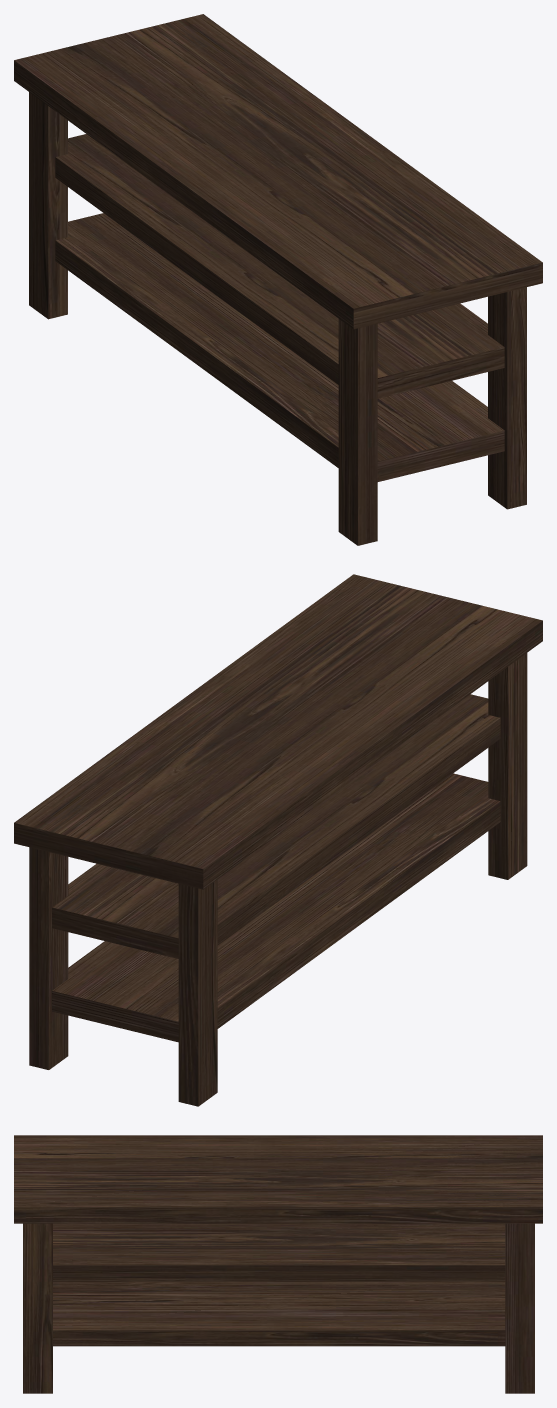
The model's file is F_Table_02.fbx.
The picture shows the model from 3 angles, top to bottom: view 1: azimuth 30°, elevation 25°; view 2: azimuth 150°, elevation 25°; view 3: azimuth 270°, elevation 25°; orthographic projection. The views are drawn at different scales.
Parts seen in each view (by area): view 1: F_Table_02; view 2: F_Table_02; view 3: F_Table_02.
Boxes of the visible parts, box(x1,y1,x2,y2) form: F_Table_02: box(14, 14, 542, 545); F_Table_02: box(14, 574, 542, 1106); F_Table_02: box(14, 1135, 542, 1393).
Size of the model in its own units: 71.48 by 87.94 by 222.
Materials: 1 (1 with a texture image).
